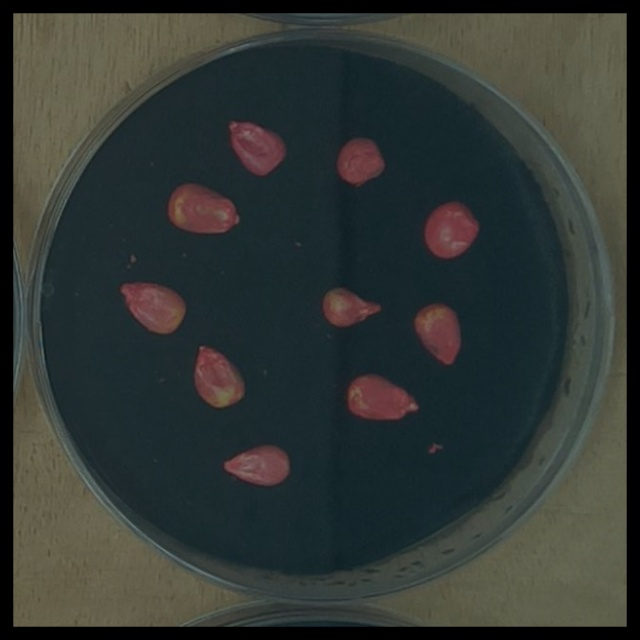Zea mays: (162, 176, 247, 241), (112, 274, 192, 343), (340, 366, 425, 428), (187, 336, 252, 415), (223, 112, 293, 183), (416, 194, 484, 266), (408, 296, 468, 373), (216, 436, 296, 493), (315, 277, 389, 336), (331, 128, 392, 192)
